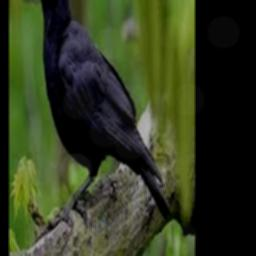Crow: (25, 0, 171, 222)
